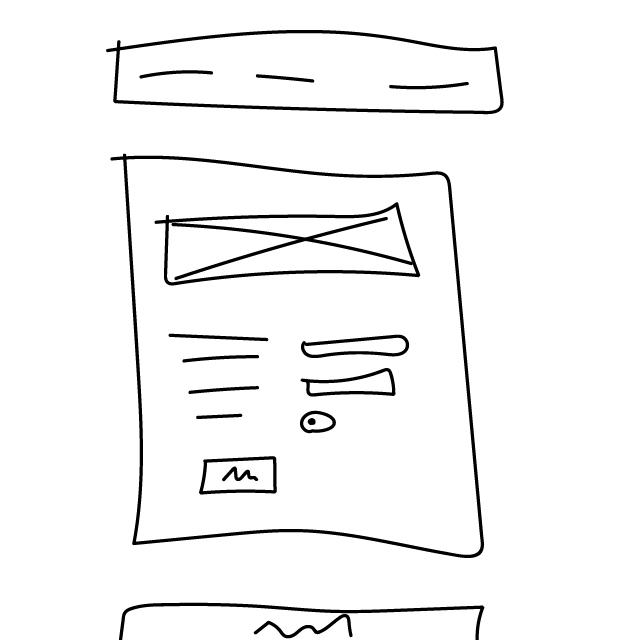button: (196, 456, 287, 498)
checkbox: (301, 411, 346, 436)
container: (103, 146, 497, 568)
footer: (112, 595, 495, 640)
frame: (156, 200, 431, 289)
input: (300, 370, 404, 400), (300, 333, 415, 360)
nav: (106, 28, 509, 123)
text: (162, 330, 271, 430)
